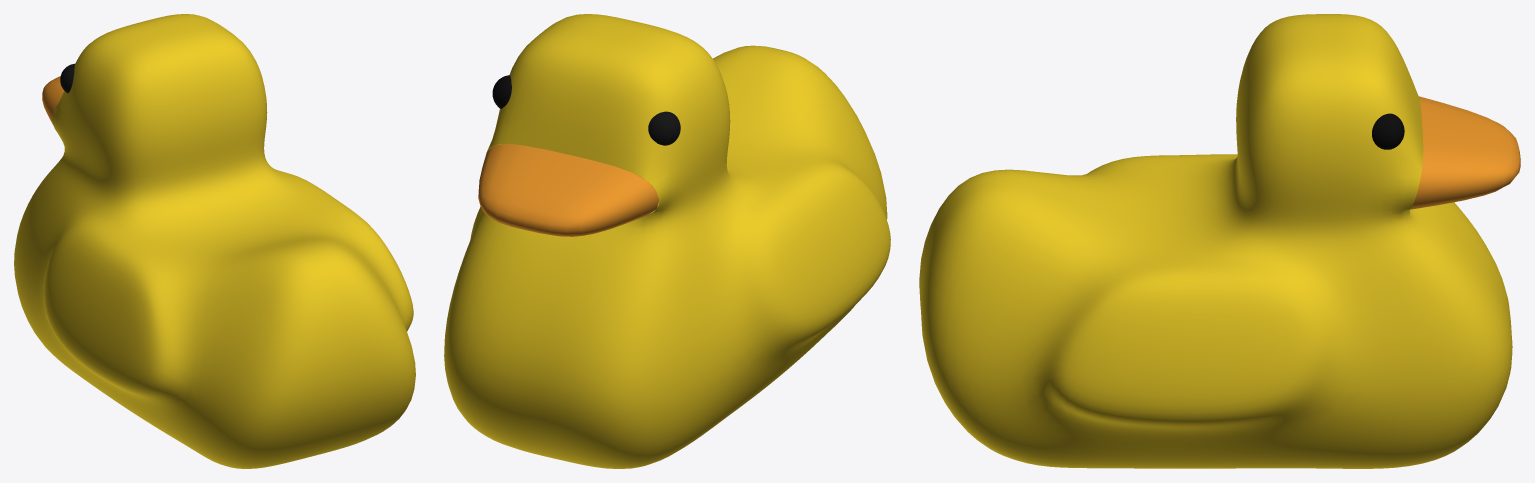
Rendered from duck.glb.
The picture shows the model from 3 angles, left to right: view 1: azimuth 30°, elevation 25°; view 2: azimuth 150°, elevation 25°; view 3: azimuth 270°, elevation 25°; orthographic projection. The views are drawn at different scales.
Parts seen in each view (by area): view 1: Cube, Cube.001; view 2: Cube, Cube.001, Sphere.001, Sphere; view 3: Cube, Cube.001, Sphere.
Part boxes in pixels (left/top/right/bottom): Cube: left=14, top=14, right=415, bottom=468; Cube.001: left=42, top=76, right=64, bottom=125; Cube: left=444, top=14, right=890, bottom=468; Cube.001: left=478, top=144, right=659, bottom=236; Sphere.001: left=648, top=111, right=680, bottom=145; Sphere: left=492, top=75, right=511, bottom=108; Cube: left=919, top=14, right=1512, bottom=468; Cube.001: left=1410, top=96, right=1520, bottom=209; Sphere: left=1372, top=113, right=1404, bottom=149.
Size of what is drawn, in the model's own units: 3.2 by 3.64 by 4.9.
